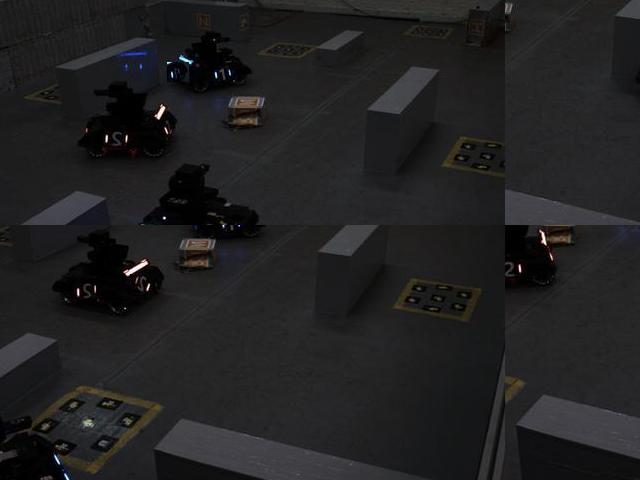armor: (102, 130, 135, 153), (73, 278, 102, 304), (505, 257, 528, 280), (209, 63, 233, 85), (130, 275, 156, 295), (168, 62, 191, 83), (162, 116, 175, 141), (217, 225, 245, 236)
